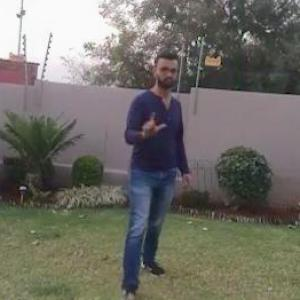land_hand: (134, 100, 166, 140)
